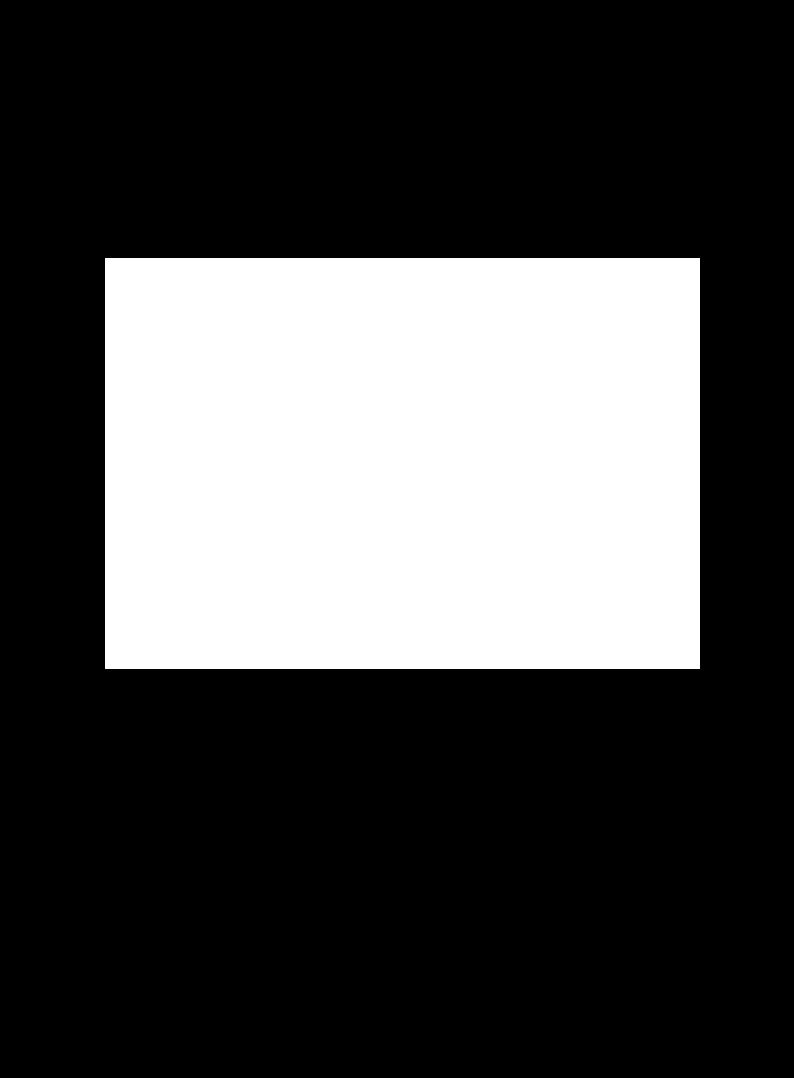table: (105, 258, 699, 668)
